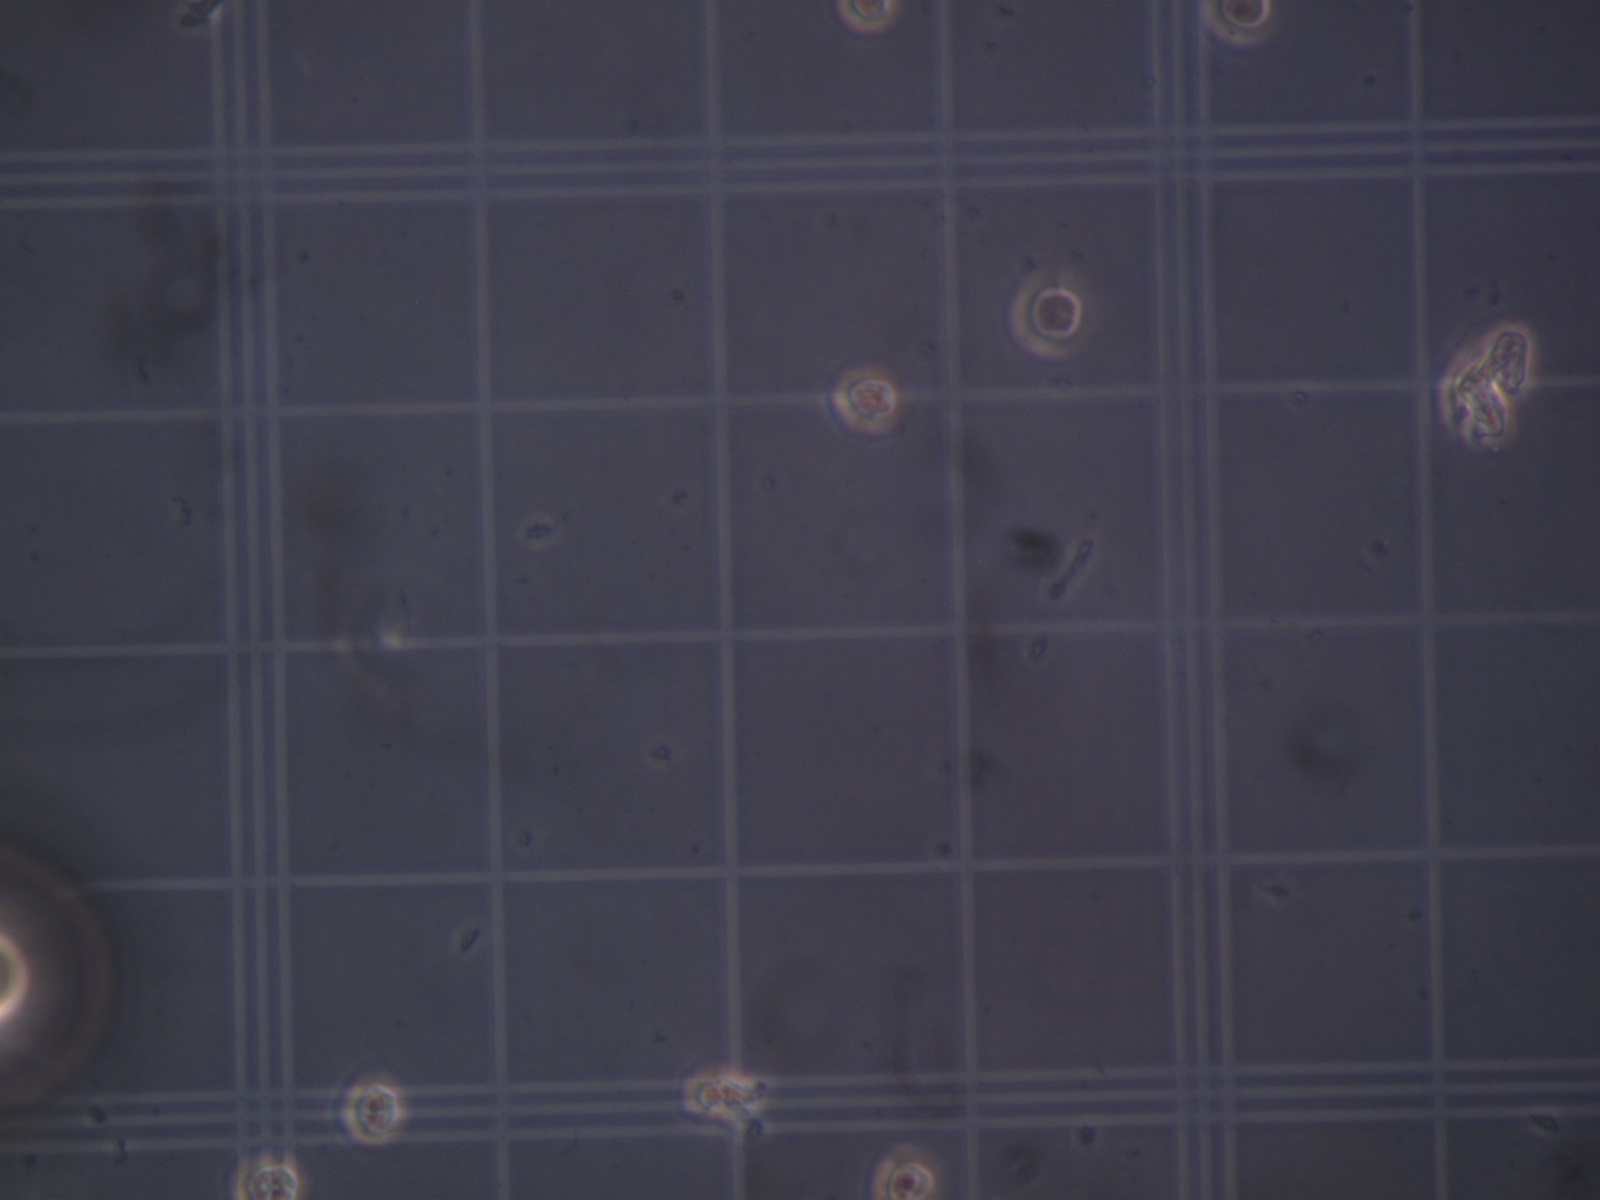hemo: (1008, 271, 1090, 359), (831, 367, 898, 434), (341, 1076, 403, 1146), (871, 1145, 942, 1200), (1199, 1, 1276, 45), (232, 1158, 304, 1199), (837, 3, 894, 33)
